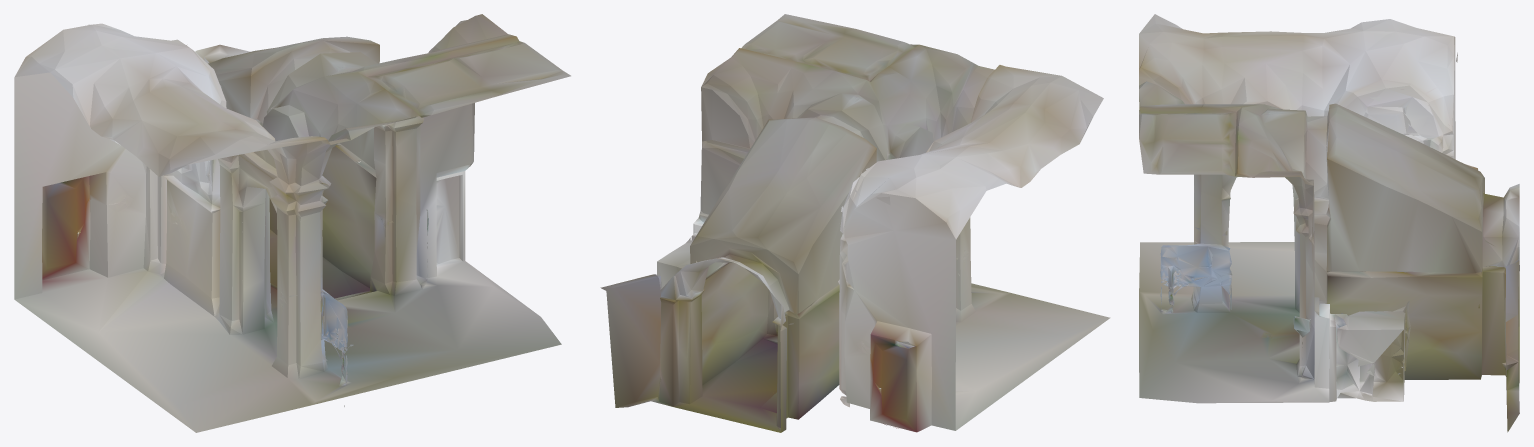
3 views of the same model, side by side, from view 1: azimuth 30°, elevation 25°; view 2: azimuth 150°, elevation 25°; view 3: azimuth 270°, elevation 25° (orthographic). The views are drawn at different scales.
Size of the model in its own units: 10.03 by 7.82 by 10.
